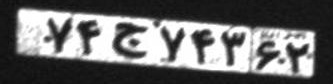character: (109, 19, 150, 64), (217, 25, 247, 73), (156, 23, 187, 66), (188, 23, 216, 69), (46, 12, 74, 54), (75, 16, 101, 59), (284, 40, 315, 76), (255, 39, 279, 71)
